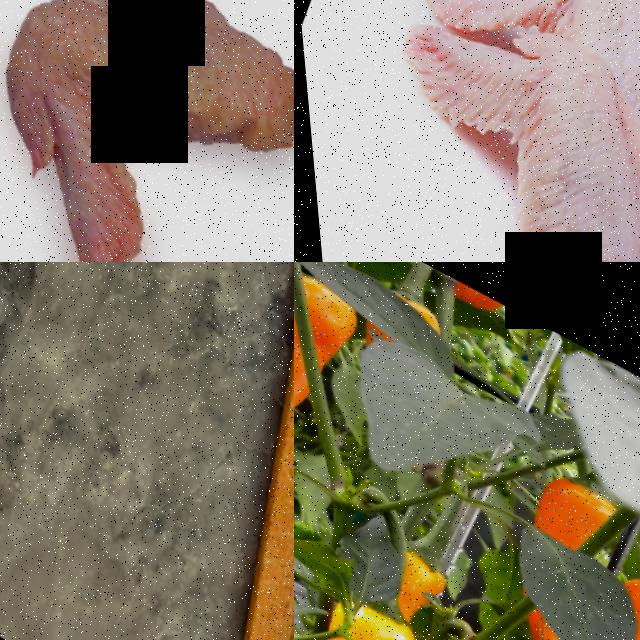chicken wing: (307, 0, 640, 262), (0, 0, 294, 262), (402, 0, 640, 208)
chilli: (294, 567, 430, 640), (294, 306, 324, 442)
